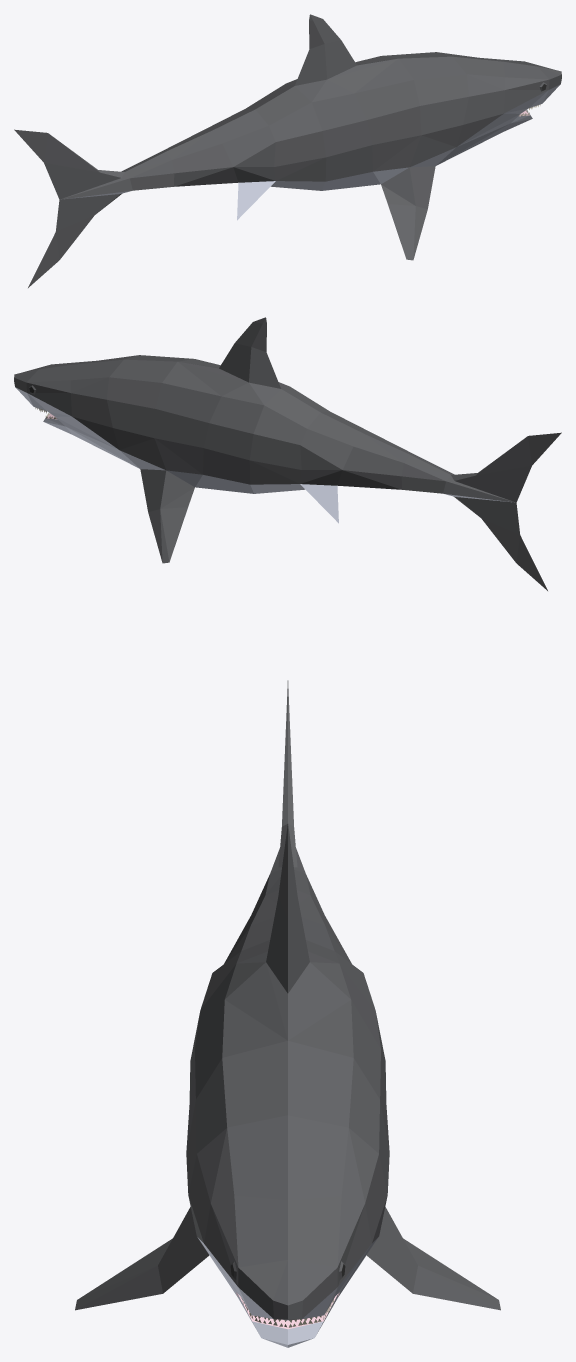
The model's file is Great White Shark.fbx.
3 views of the same model, one above another, from view 1: azimuth 30°, elevation 25°; view 2: azimuth 150°, elevation 25°; view 3: azimuth 270°, elevation 25° (orthographic). The views are drawn at different scales.
Parts seen in each view (by area): view 1: Great White Shark; view 2: Great White Shark; view 3: Great White Shark.
Part boxes in pixels (bbox=[...]): Great White Shark: bbox=[14, 14, 561, 287]; Great White Shark: bbox=[14, 317, 561, 590]; Great White Shark: bbox=[75, 680, 500, 1347].
Bounding box in the file's own units: 26.34 × 10.09 × 8.87.
